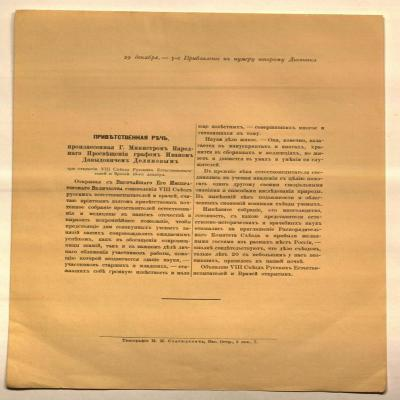document: (11, 12, 387, 392)
